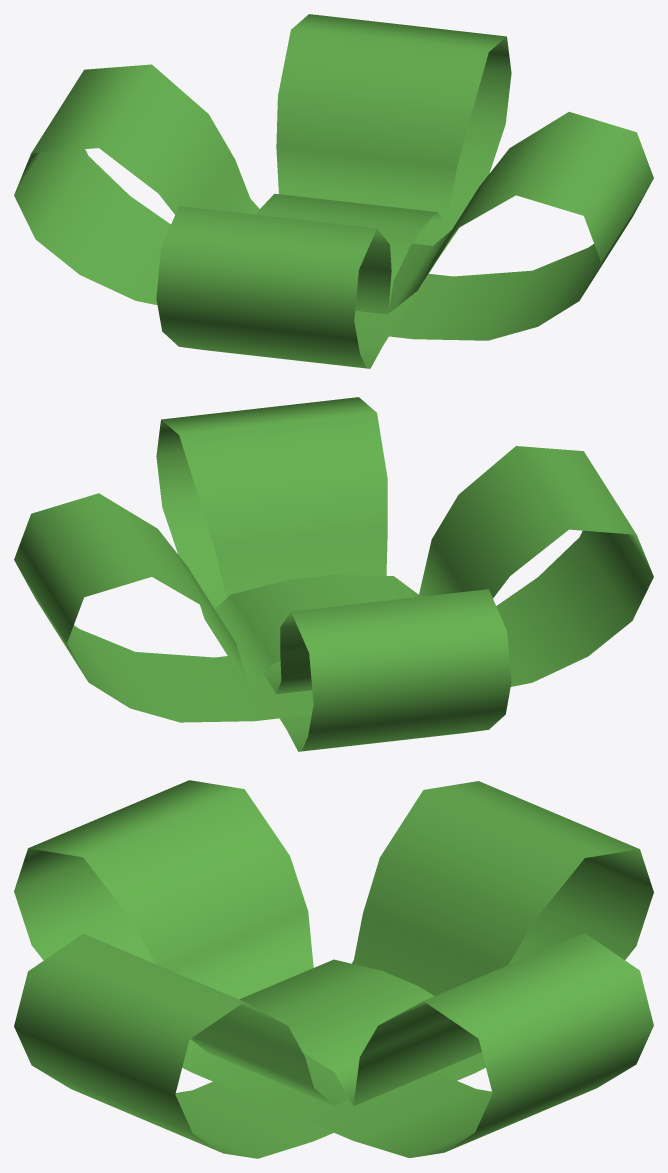
Rendered from bantik.fbx.
3 renders of one model, top to bottom at view 1: azimuth 30°, elevation 25°; view 2: azimuth 150°, elevation 25°; view 3: azimuth 270°, elevation 25°, orthographic. The views are drawn at different scales.
Parts seen in each view (by area): view 1: bantik; view 2: bantik; view 3: bantik.
Part boxes in pixels (x1,y1,x2,y2): bantik: [14, 14, 653, 368]; bantik: [14, 397, 653, 751]; bantik: [14, 780, 653, 1158].
Bounding box in the file's own units: 10.84 × 3.49 × 10.84.
